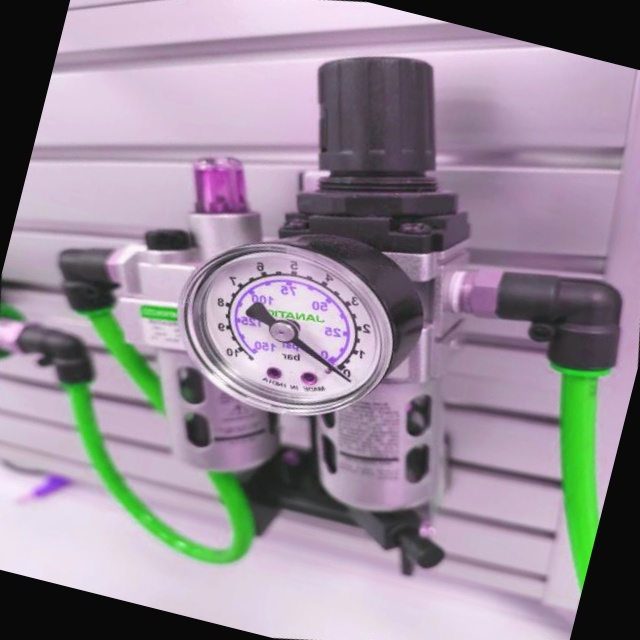FRL unit: (0, 0, 640, 640)
push button: (137, 179, 463, 468)
